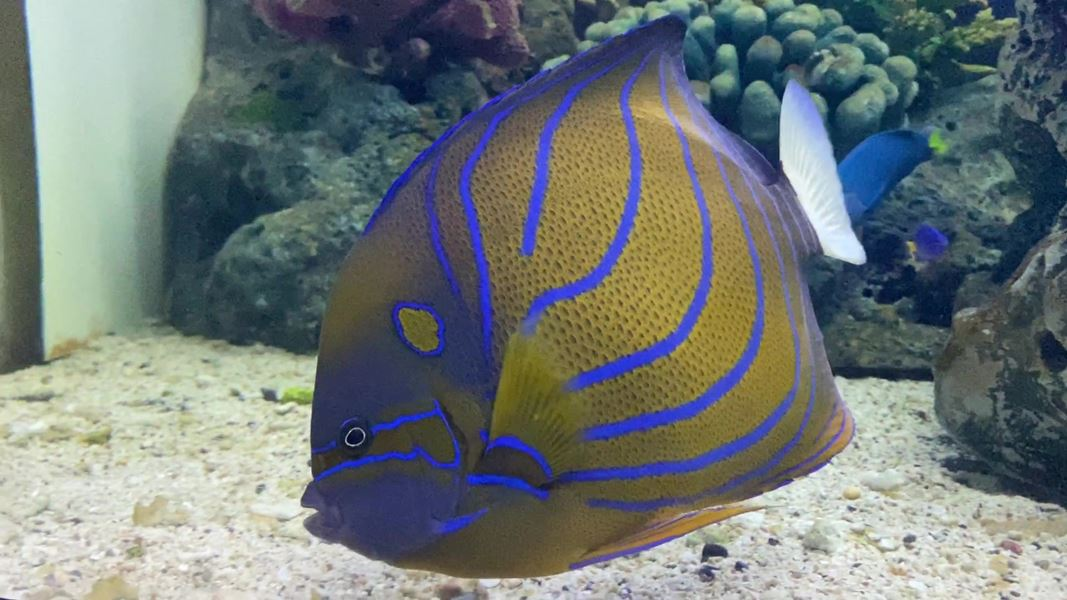Blue ring angelfish: (261, 9, 893, 596)
